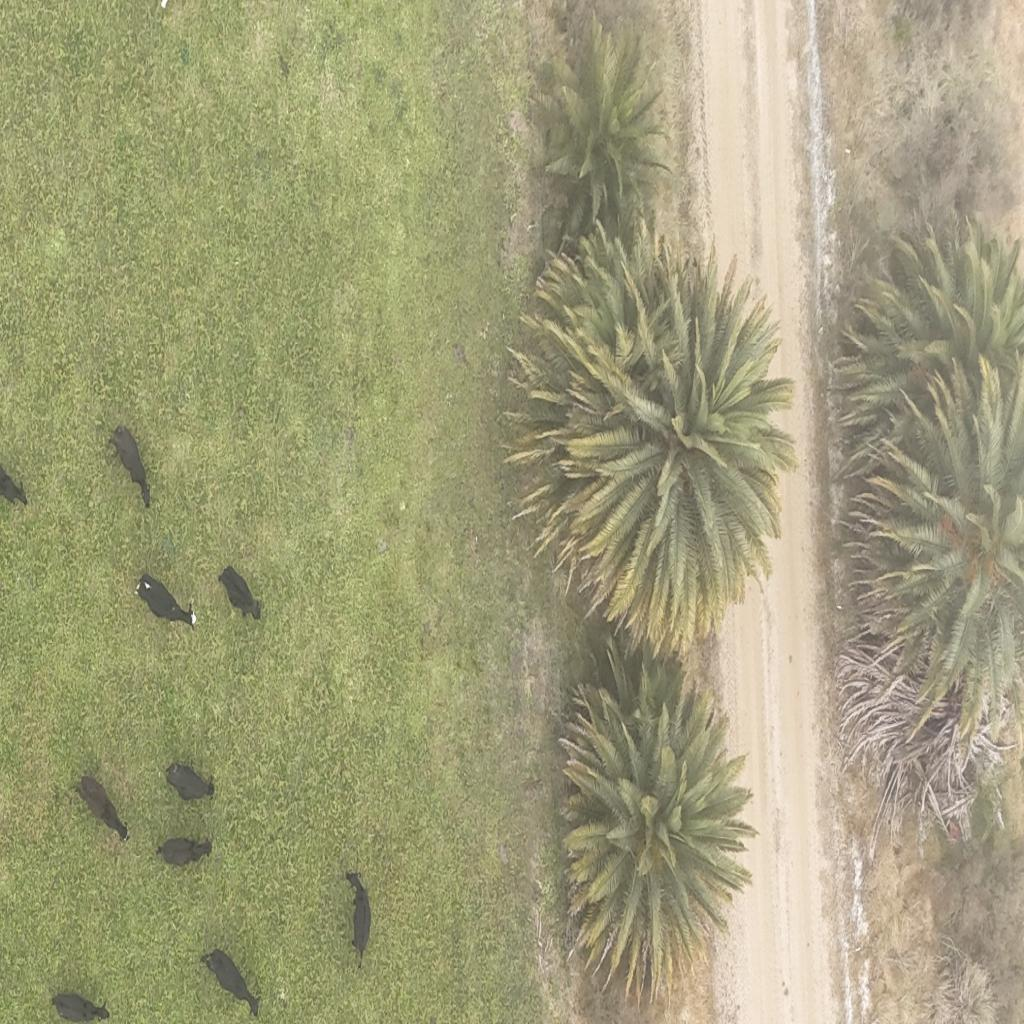cow: (200, 949, 260, 1019), (75, 774, 131, 845), (106, 424, 152, 508), (134, 572, 198, 629), (217, 564, 262, 624), (345, 870, 371, 966), (164, 761, 215, 804), (156, 835, 214, 868), (52, 991, 110, 1023)
